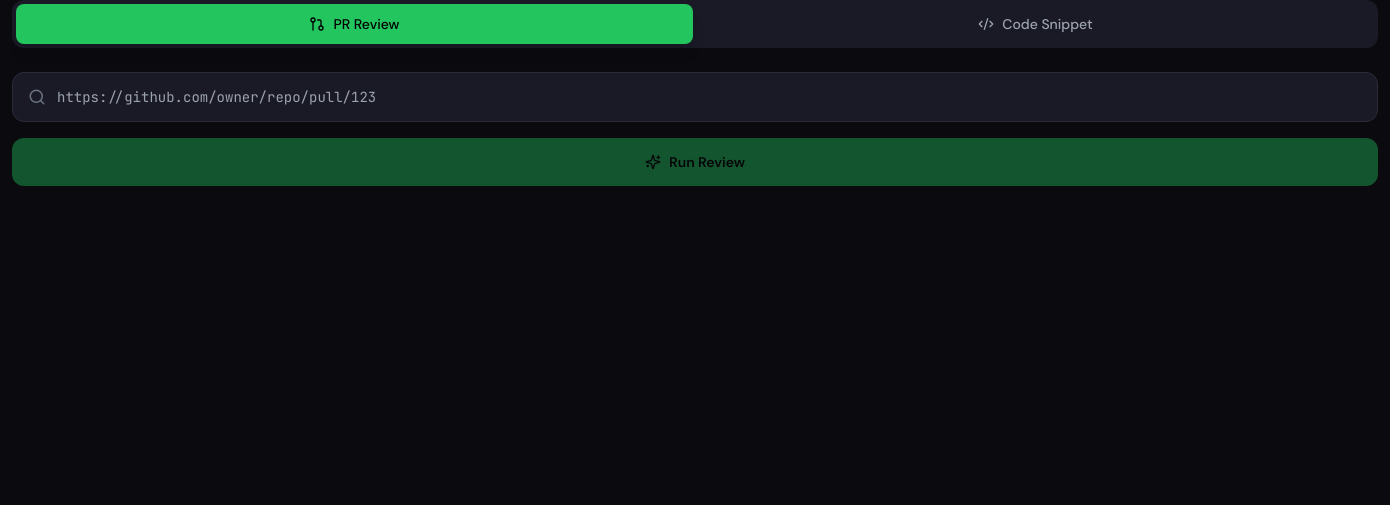
Test: ReviewForm › switches to snippet mode on click
Click the button "Code Snippet".
click(1036, 24)  # box [697,4,1374,44]
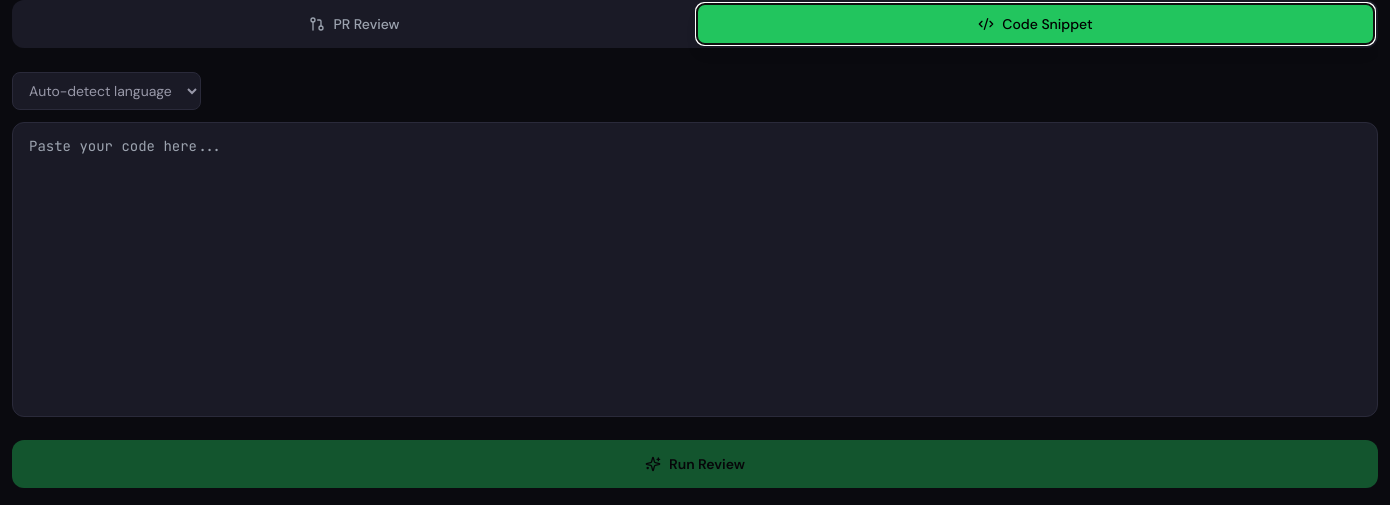
Expected: the text box with placeholder "Paste your code here..." is shown, [12,122,1378,417]
